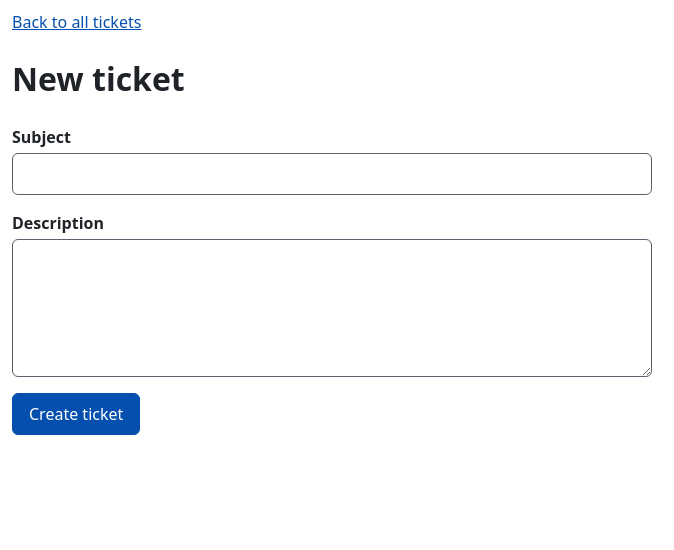
Test: NewTicketPage › shows the API's message for any other error, e.g. 403
This screenshot has width=674, height=550.
Type "Printer jammed" into the field labelled "Subject" at (332, 174), box [12,153,652,195]
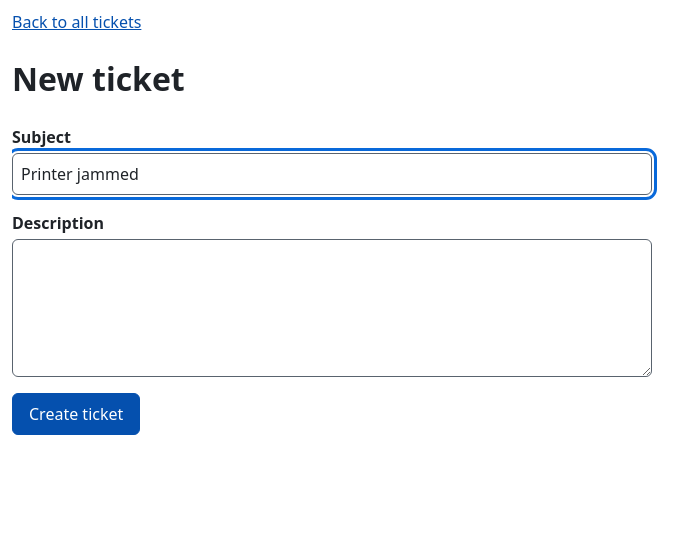
Type "Paper stuck" into the text box labelled "Description" at (332, 308), box [12,239,652,377]
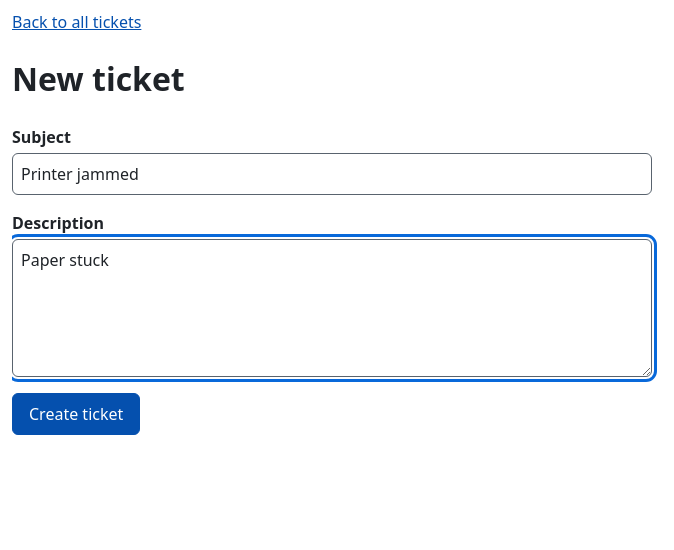
Click the button "Create ticket" at (76, 414), box [12,393,140,435]
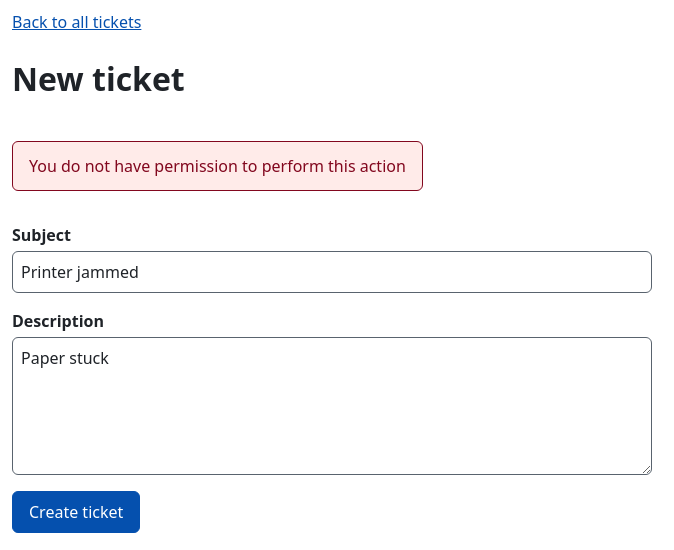
Check: the message shows "You do not have permission", box [29,155,406,177]
